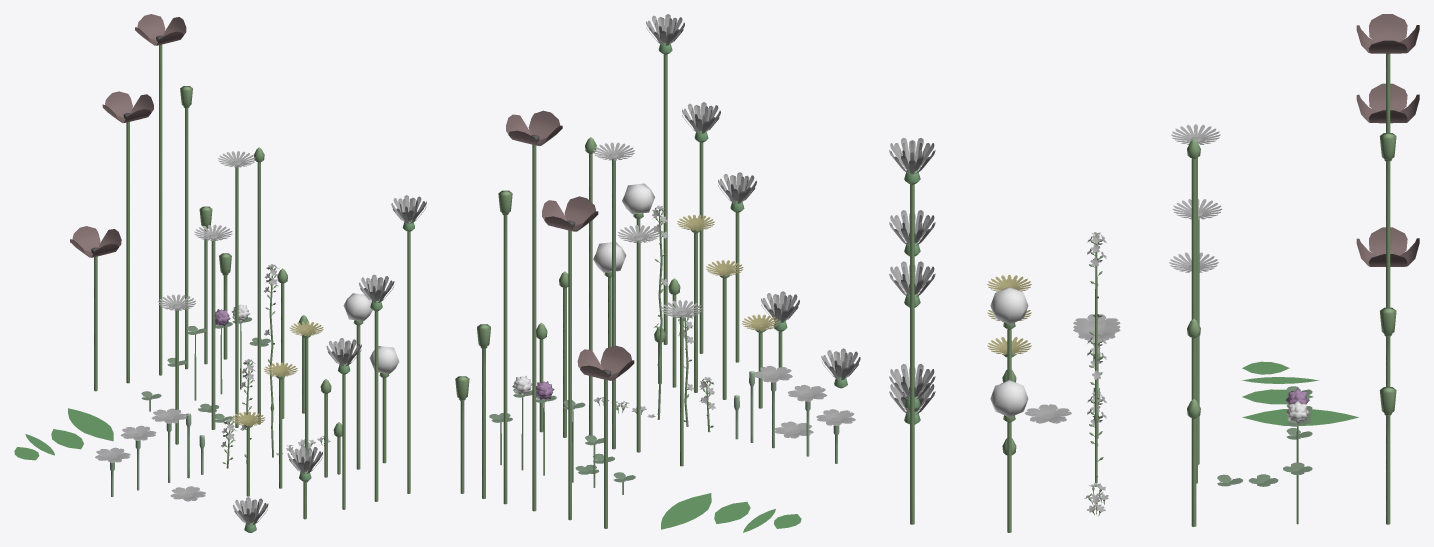
The model's file is Flower_Modular_FBX.fbx.
The picture shows the model from 3 angles, left to right: view 1: azimuth 30°, elevation 25°; view 2: azimuth 150°, elevation 25°; view 3: azimuth 270°, elevation 25°; orthographic projection. The views are drawn at different scales.
Visible parts, largest first — view 1: Poppy_L, Bud_L (×2), Poppy_M, Knapweed_L, Knapweed_M, Poppy_S, Daisy_L, Daisy_M, Clock_L, Bud_M (×2), Knapweed_S, Clock_S (+12 smaller); view 2: Bud_L (×3), Poppy_L, Poppy_M, Knapweed_L, Poppy_S, Knapweed_M, Knapweed_S, Bud_M (×2), Daisy_M, Daisy_L, Bud_S (×2), Daisy_S (+14 smaller); view 3: Knapweed_L, Bud_L (×2), Poppy_L, Bud_S (×2), Clock_S, Poppy_M, Poppy_S, Clock_L, Daisy_L, ForgetMeKnot_L, Knapweed_S, Knapweed_M (+6 smaller).
Boxes of the visible parts, x1,y1,x2,y2 form: Poppy_L: [135, 14, 186, 375]; Bud_L (×2): [180, 86, 264, 424]; Poppy_M: [102, 91, 153, 383]; Knapweed_L: [391, 195, 426, 493]; Knapweed_M: [359, 274, 394, 501]; Poppy_S: [70, 226, 121, 391]; Daisy_L: [218, 151, 255, 427]; Daisy_M: [194, 224, 232, 429]; Clock_L: [343, 293, 372, 469]; Bud_M (×2): [199, 206, 287, 418]; Knapweed_S: [326, 338, 361, 509]; Clock_S: [369, 346, 399, 463]; Bud_L (×3): [498, 137, 680, 504]; Poppy_L: [506, 110, 562, 511]; Poppy_M: [542, 196, 598, 520]; Knapweed_L: [646, 14, 684, 344]; Poppy_S: [577, 345, 634, 528]; Knapweed_M: [682, 102, 720, 353]; Knapweed_S: [718, 172, 756, 362]; Bud_M (×2): [477, 271, 568, 498]; Daisy_M: [617, 225, 659, 452]; Daisy_L: [593, 142, 634, 449]; Bud_S (×2): [455, 323, 547, 493]; Daisy_S: [660, 300, 702, 466]; Knapweed_L: [889, 138, 935, 524]; Bud_L (×2): [1187, 133, 1396, 319]; Poppy_L: [1356, 14, 1419, 132]; Bud_S (×2): [1187, 387, 1396, 526]; Clock_S: [990, 380, 1028, 532]; Poppy_M: [1356, 83, 1419, 123]; Poppy_S: [1356, 227, 1419, 266]; Clock_L: [990, 287, 1028, 380]; Daisy_L: [1171, 124, 1220, 483]; ForgetMeKnot_L: [1087, 232, 1106, 483]; Knapweed_S: [889, 261, 935, 307]; Knapweed_M: [889, 210, 935, 256].
Bounding box in the file's own units: 43.48 × 51.9 × 54.64.
